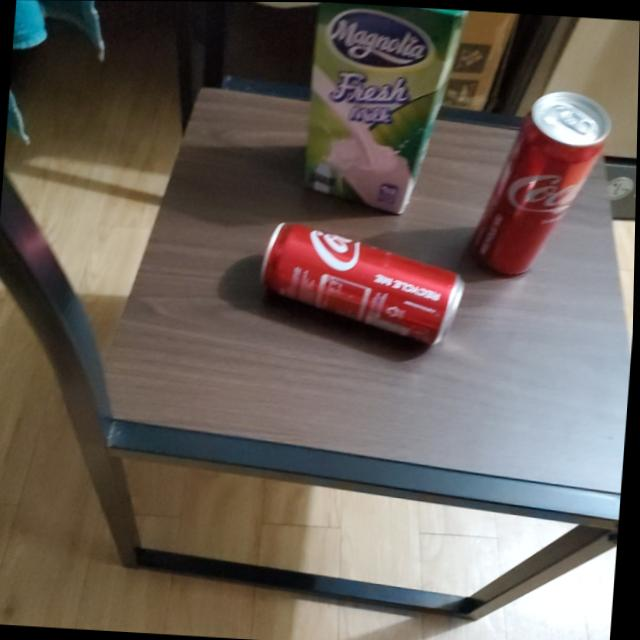coke: (474, 83, 618, 282), (260, 219, 477, 347)
milk: (299, 2, 465, 218)
